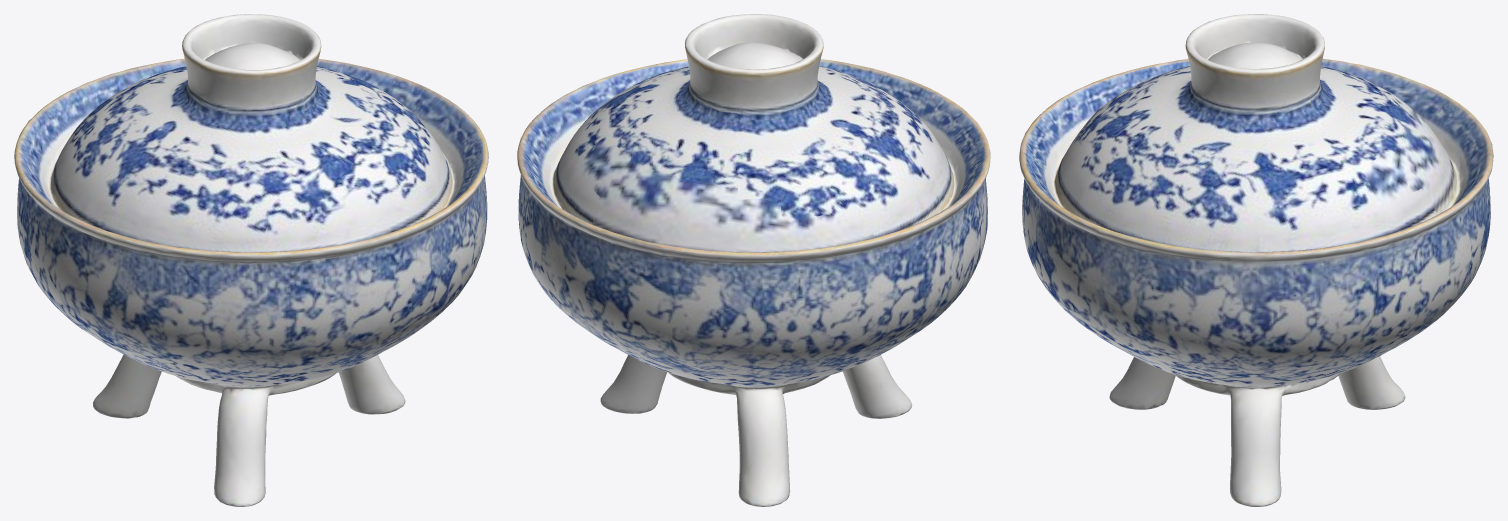
The model's file is porcelain_4.glb.
The picture shows the model from 3 angles, left to right: view 1: azimuth 30°, elevation 25°; view 2: azimuth 150°, elevation 25°; view 3: azimuth 270°, elevation 25°; orthographic projection.
Visible parts, largest first — view 1: geometry_0; view 2: geometry_0; view 3: geometry_0.
Boxes of the visible parts, x1,y1,x2,y2 form: geometry_0: (14,14,488,506); geometry_0: (517,14,990,506); geometry_0: (1019,14,1493,506).
Bounding box in the file's own units: 1 × 0.916 × 1.
1 material, 1 textured.
